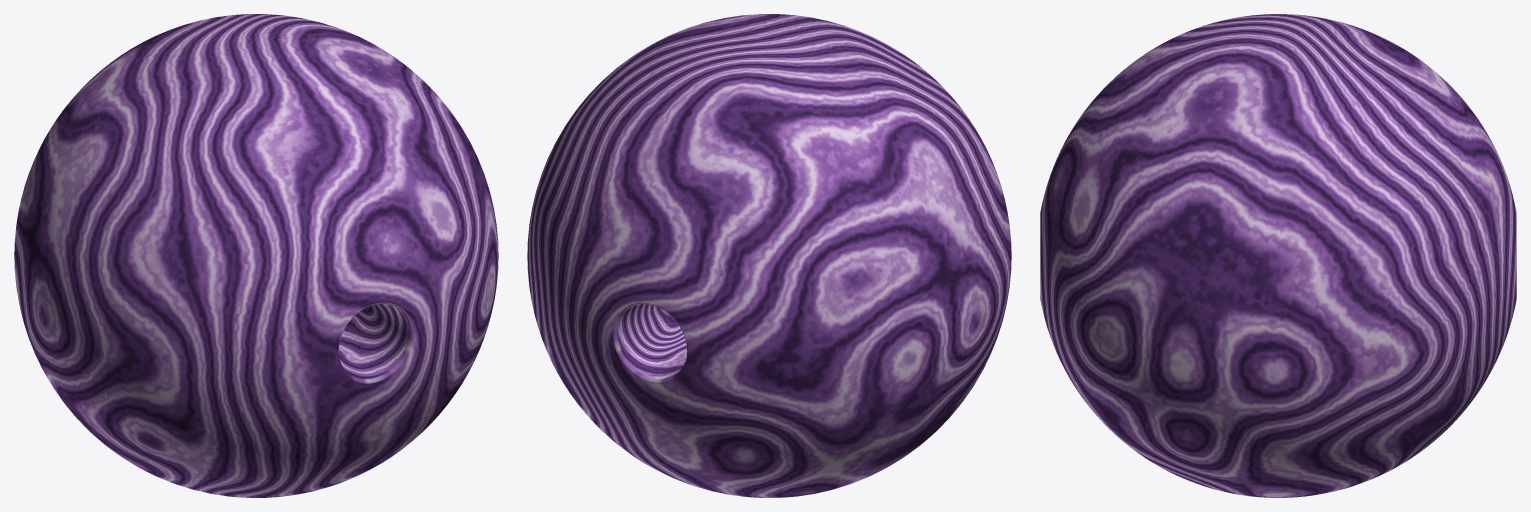
Rendered from charoite-6mm.glb.
3 renders of one model, left to right at view 1: azimuth 30°, elevation 25°; view 2: azimuth 150°, elevation 25°; view 3: azimuth 270°, elevation 25°, orthographic.
Parts seen in each view (by area): view 1: charoite.001; view 2: charoite.001; view 3: charoite.001.
Part boxes in pixels (x1,y1,x2,y2): charoite.001: (14,14,498,497); charoite.001: (527,14,1011,497); charoite.001: (1040,14,1516,497).
Bounding box in the file's own units: 0.006 × 0.006 × 0.0059.
Materials: 1 (1 with a texture image).
